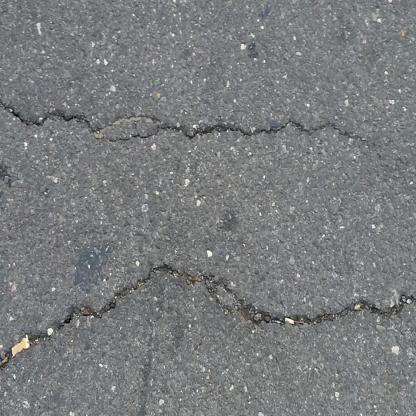Cracks: (0, 266, 416, 412), (0, 84, 357, 146)
